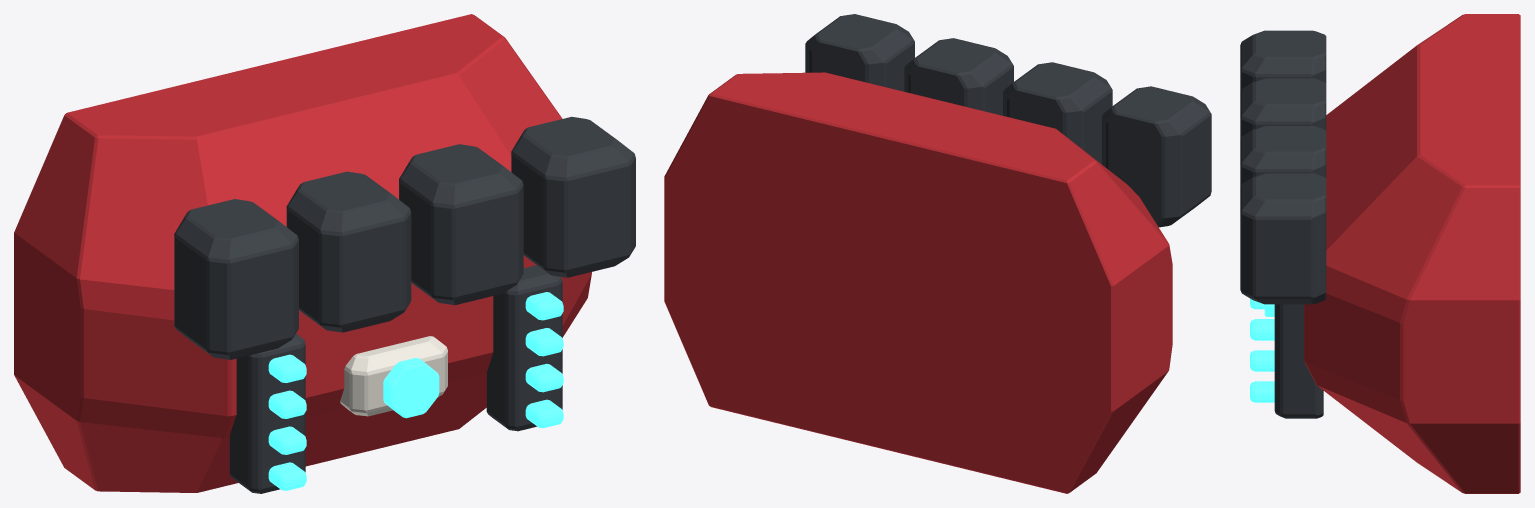
File: HandFront_Set10_Aegis.fbx
3 renders of one model, left to right at view 1: azimuth 30°, elevation 25°; view 2: azimuth 150°, elevation 25°; view 3: azimuth 270°, elevation 25°, orthographic. The views are drawn at different scales.
Parts seen in each view (by area): view 1: HandFront_Set10_Aegis; view 2: HandFront_Set10_Aegis; view 3: HandFront_Set10_Aegis.
Boxes of the visible parts, x1,y1,x2,y2 form: HandFront_Set10_Aegis: (14, 14, 635, 493); HandFront_Set10_Aegis: (664, 14, 1211, 493); HandFront_Set10_Aegis: (1240, 14, 1520, 493).
Size of the model in its own units: 0.3 by 0.2 by 0.1644.
